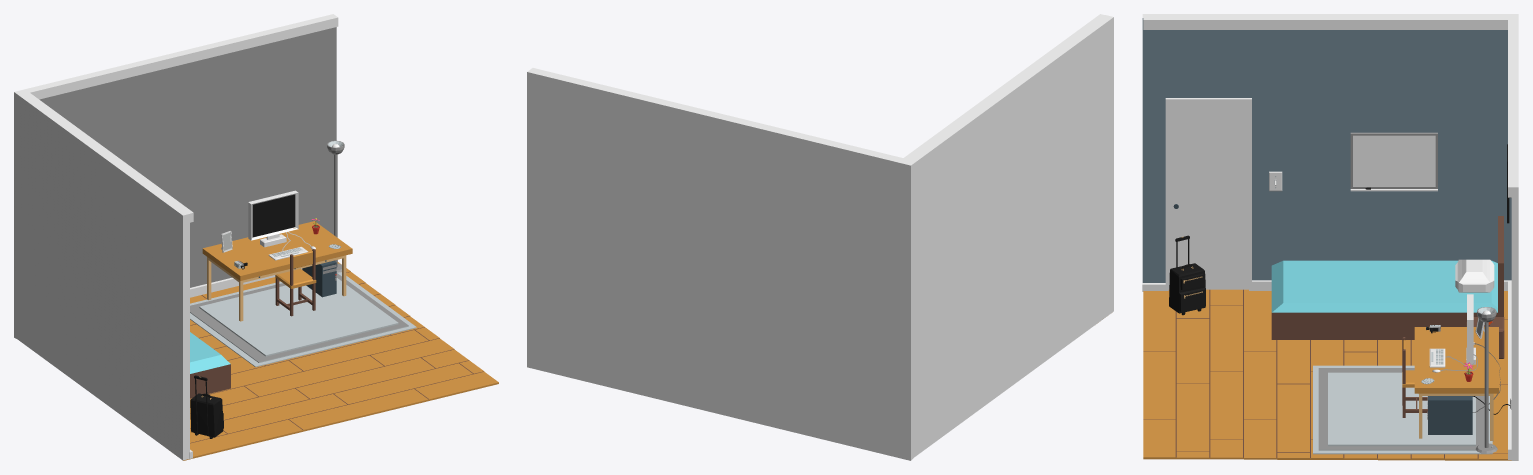
Rendered from jasons_room.glb.
The picture shows the model from 3 angles, left to right: view 1: azimuth 30°, elevation 25°; view 2: azimuth 150°, elevation 25°; view 3: azimuth 270°, elevation 25°; orthographic projection. The views are drawn at different scales.
Parts seen in each view (by area): view 1: Node; view 2: Node; view 3: Node.
Boxes of the visible parts, x1,y1,x2,y2 form: Node: (14, 14, 498, 460); Node: (527, 14, 1113, 460); Node: (1142, 14, 1518, 460).
Size of the model in its own units: 4.04 by 2.97 by 3.71.
